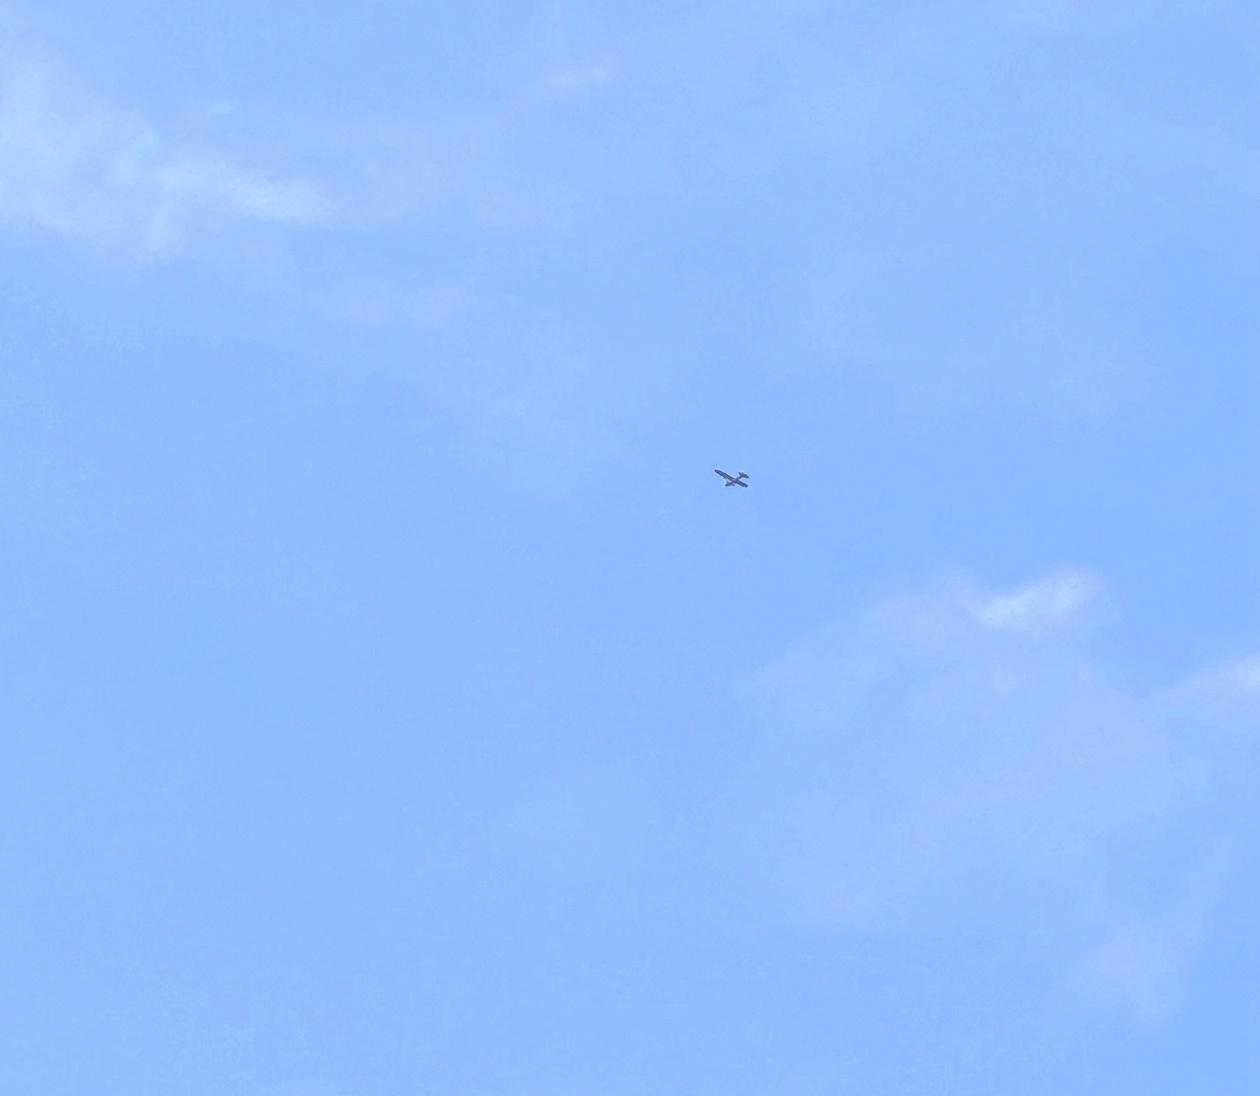Plane: (693, 451, 772, 505)
